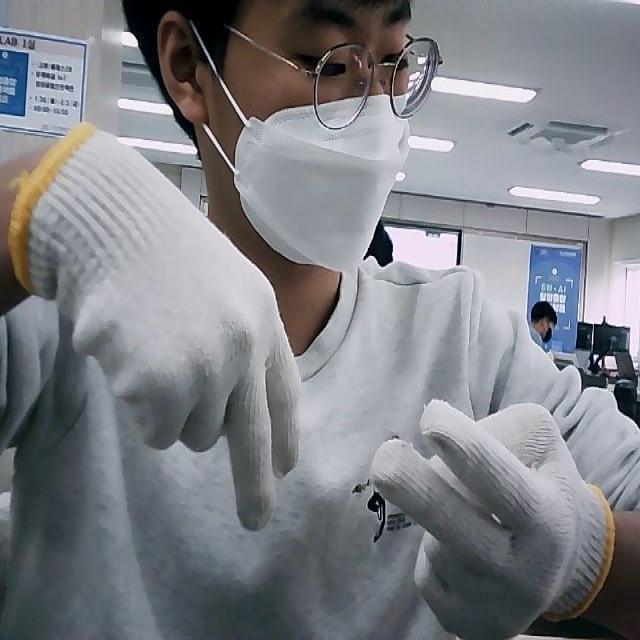gloves: (9, 122, 302, 532), (370, 399, 614, 640)
